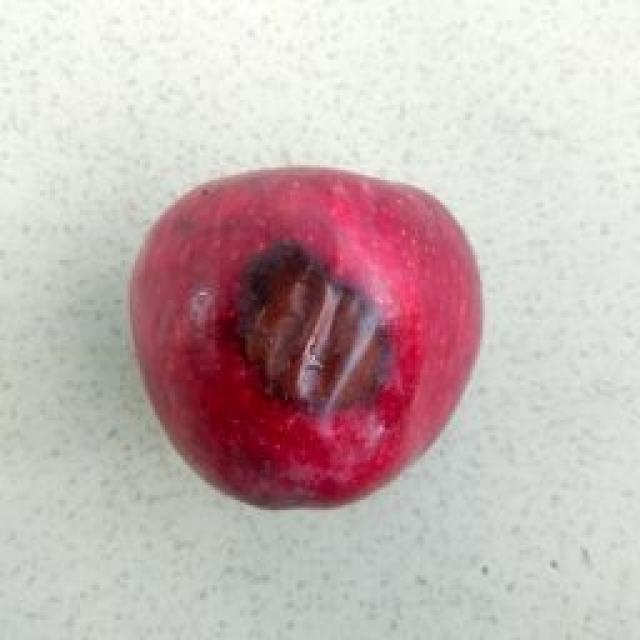Bad_Apple: (135, 168, 481, 507)
